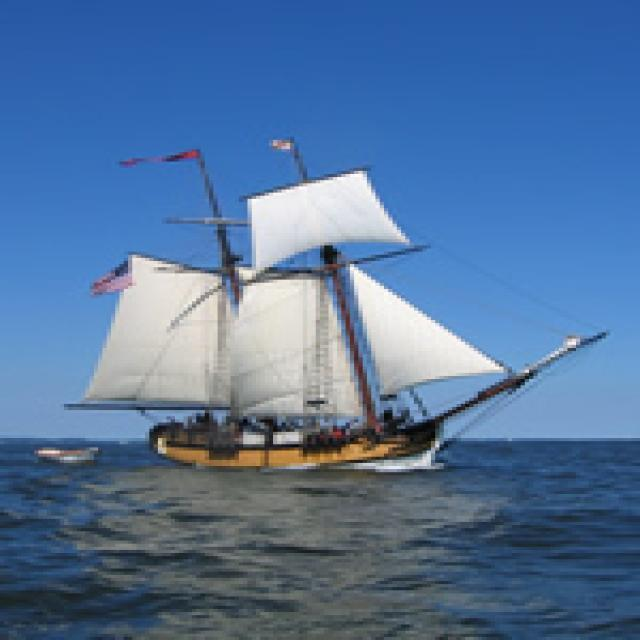Ship: (74, 142, 547, 480)
